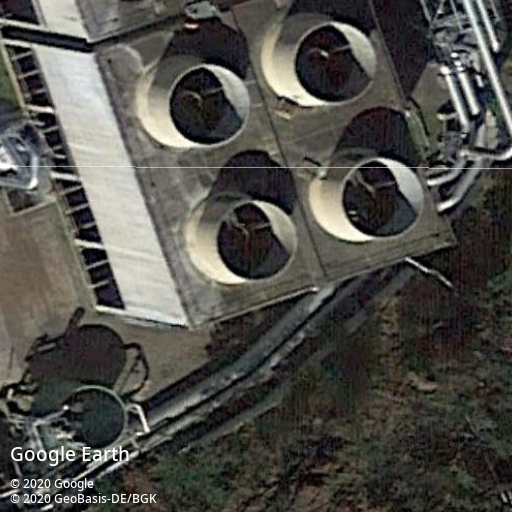Vent: (293, 21, 377, 105), (214, 200, 298, 283), (340, 158, 425, 240), (168, 64, 250, 146)
